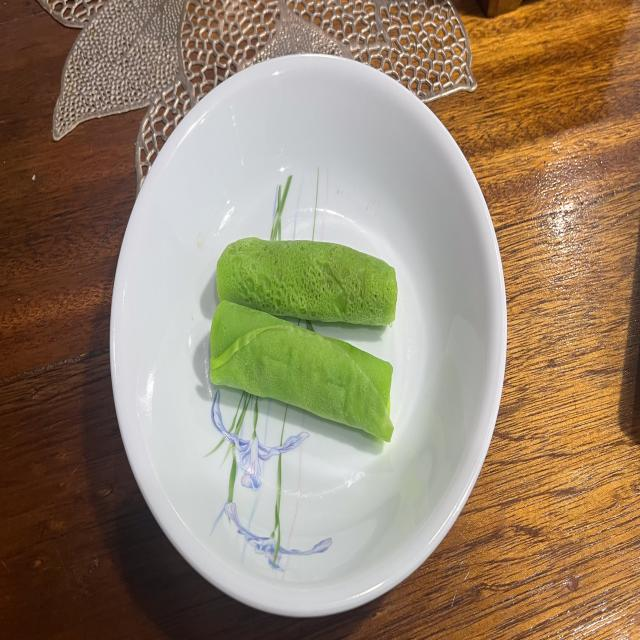Kuih-Ketayap: (210, 300, 394, 442), (216, 238, 398, 327)
